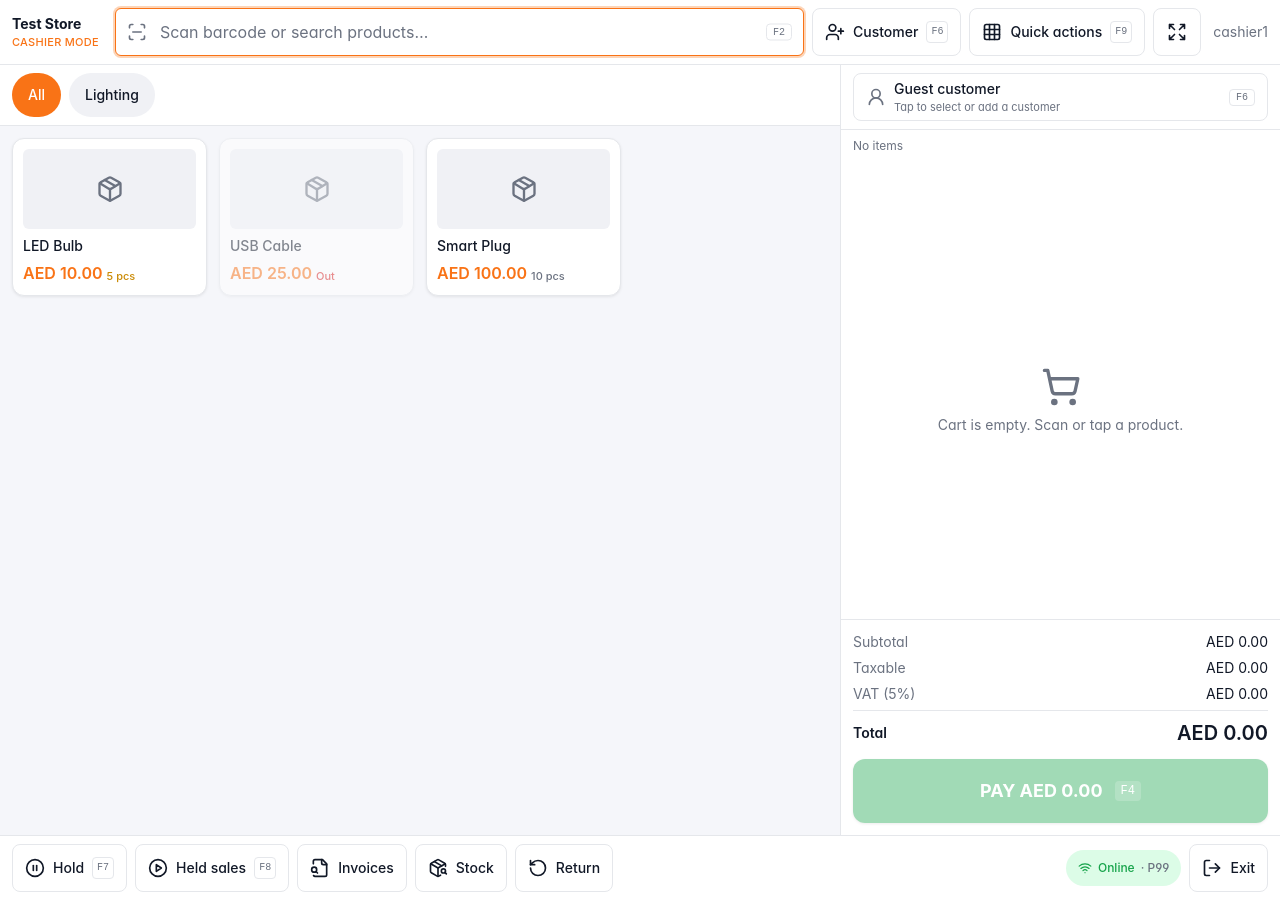
Test case: Cashier Mode — products, barcode and cart › a single tap on a product card adds it to the sale
Click the button with aria-label "Add LED Bulb": [110, 217] box [12,138,207,296]
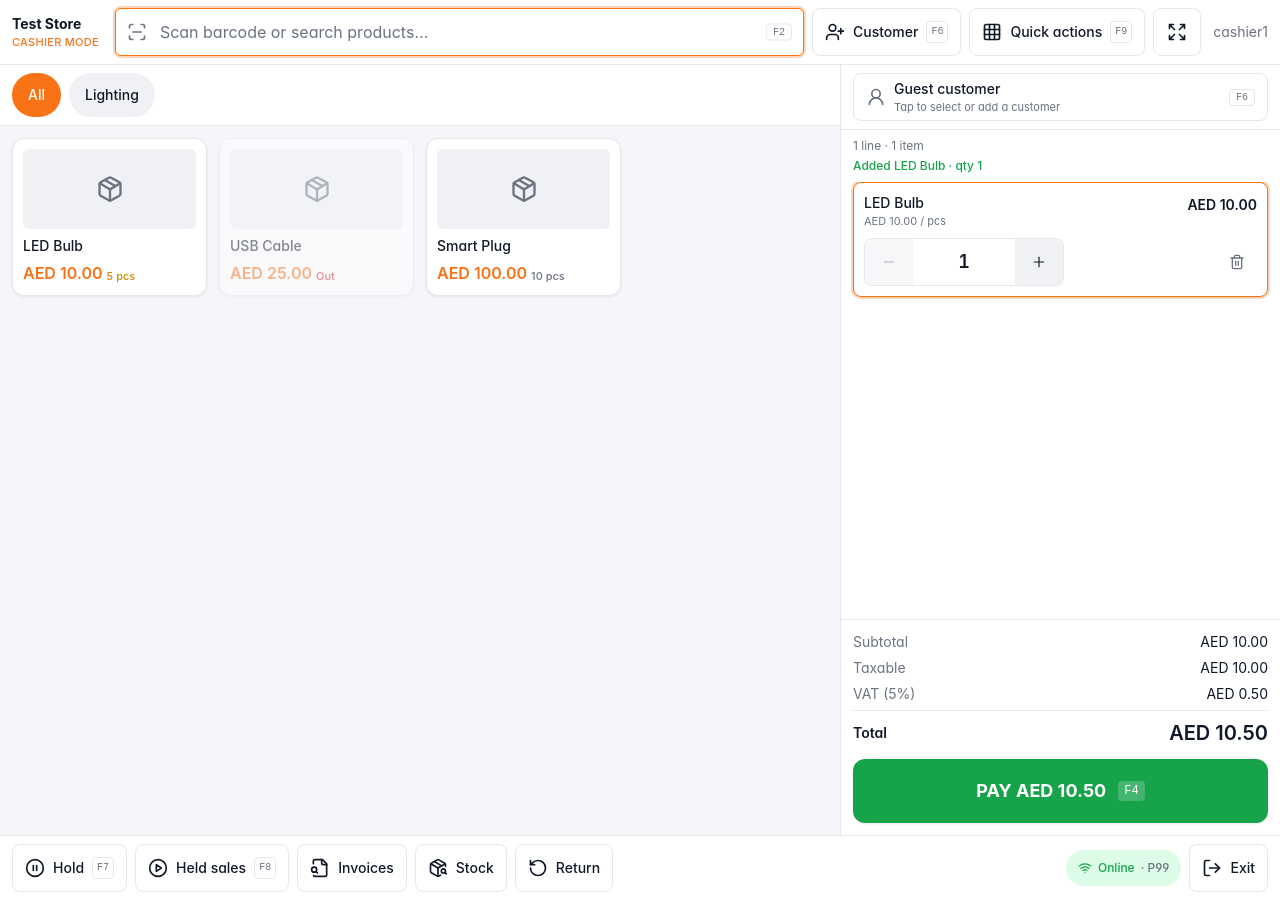
Expected: the text "LED Bulb" below "Added LED Bulb · qty 1" is shown, [864,194,924,211]
Expected: the button "PAY AED 10.50 F4" is shown, [853,759,1268,823]
